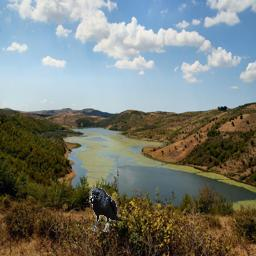Crow: (89, 188, 120, 232)
